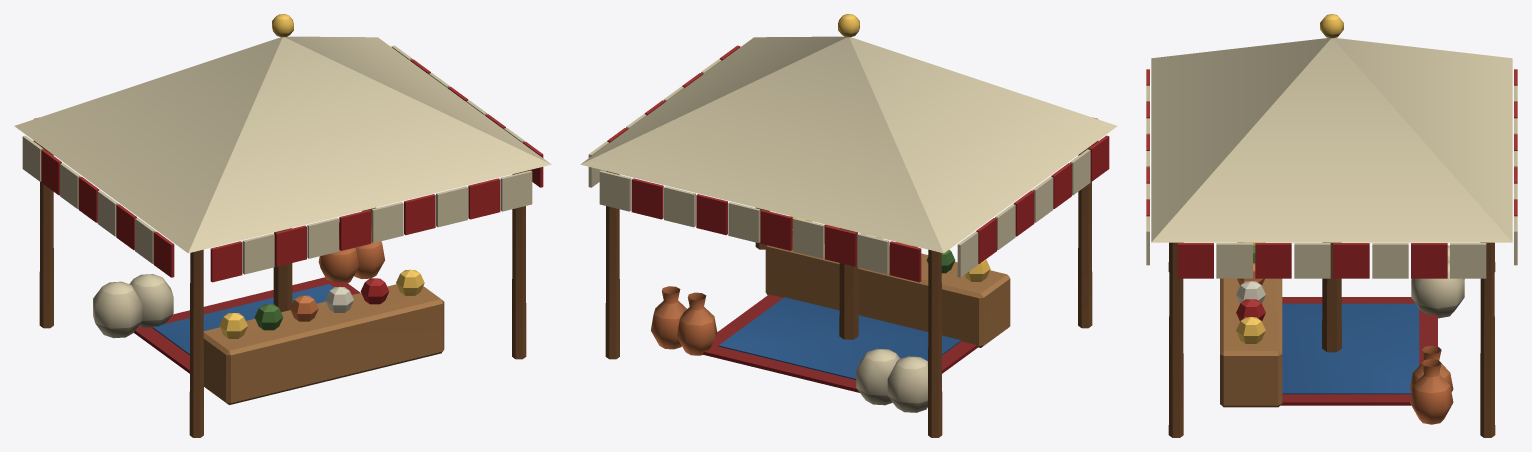
Rendered from city_tent.glb.
3 renders of one model, left to right at view 1: azimuth 30°, elevation 25°; view 2: azimuth 150°, elevation 25°; view 3: azimuth 270°, elevation 25°, orthographic. The views are drawn at different scales.
Visible parts, largest first — view 1: city_tent; view 2: city_tent; view 3: city_tent.
Boxes of the visible parts, x1=… form: city_tent: x1=14, y1=14, x2=551, y2=437; city_tent: x1=580, y1=14, x2=1117, y2=437; city_tent: x1=1146, y1=14, x2=1517, y2=437.
Bounding box in the file's own units: 0.716 × 0.6095 × 0.596.
